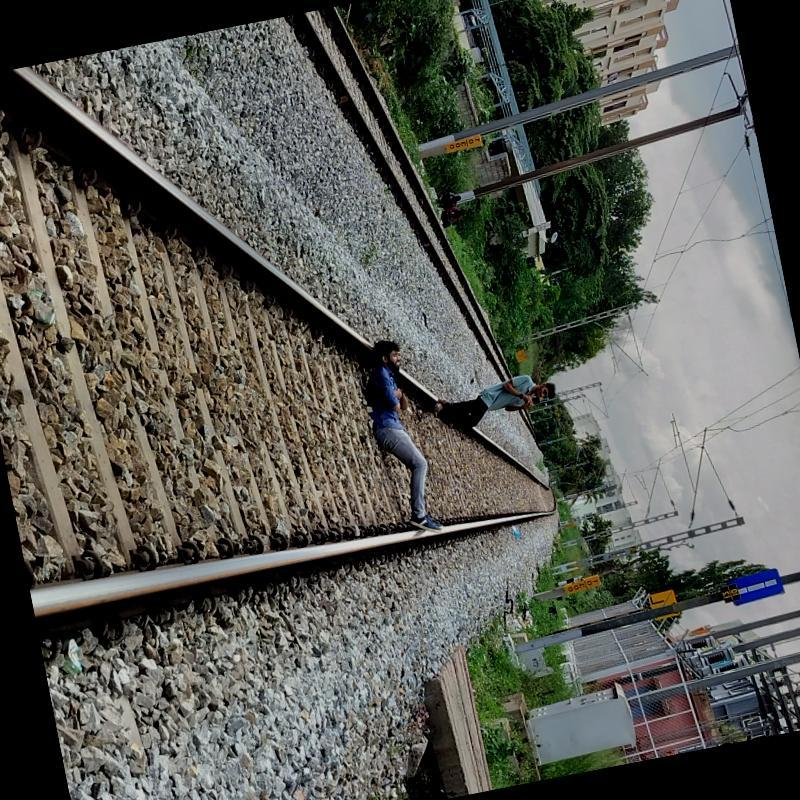sleeping: (351, 328, 458, 549)
